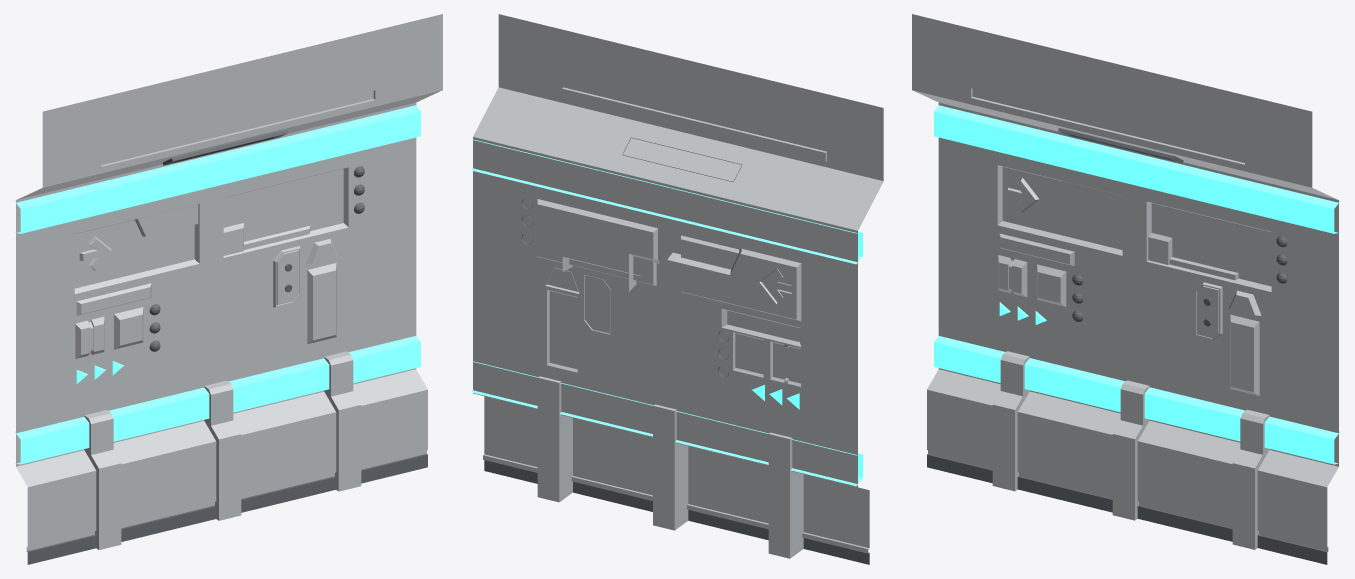
The model's file is wall_4-7dxY02ru.glb.
The picture shows the model from 3 angles, left to right: view 1: azimuth 30°, elevation 25°; view 2: azimuth 150°, elevation 25°; view 3: azimuth 330°, elevation 25°; orthographic projection. The views are drawn at different scales.
Visible parts, largest first — view 1: Wall_4; view 2: Wall_4; view 3: Wall_4.
Boxes of the visible parts, x1,y1,x2,y2 form: Wall_4: (14, 14, 442, 564); Wall_4: (471, 14, 883, 564); Wall_4: (912, 14, 1340, 564).
Size of the model in its own units: 3.34 by 3.7 by 0.4782.
